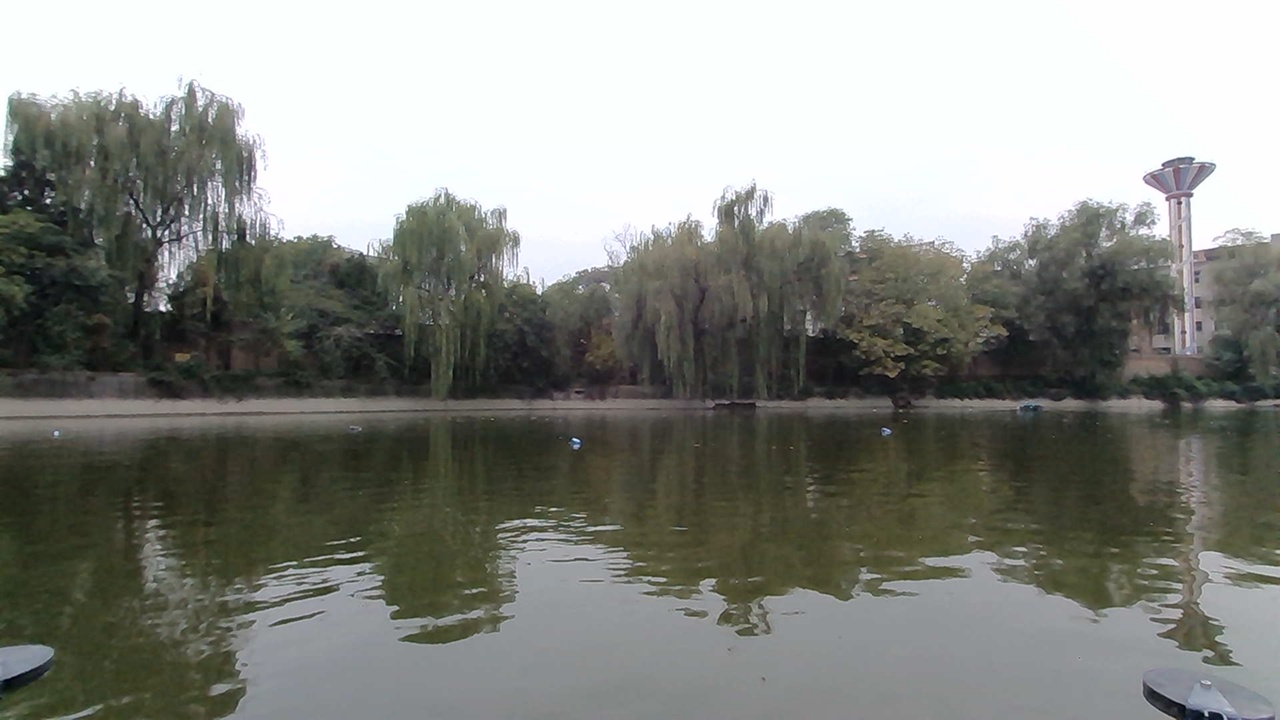bottle: (328, 410, 364, 441), (558, 427, 597, 455), (43, 420, 84, 443), (871, 418, 902, 439)
